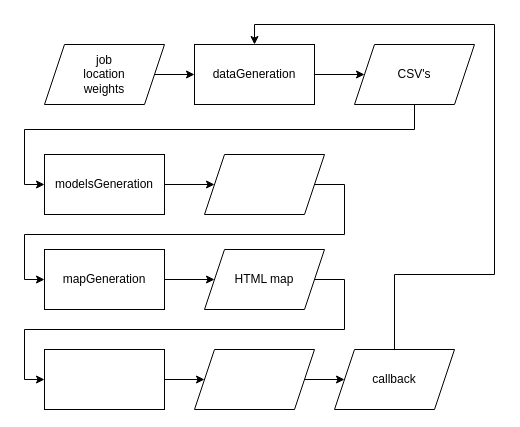
Some shapes in this 520 by 427 pixel diagram are drawn without their labels. The shapes that lost their labels are listed below. From the top down, each one's centre as x and y in pixels, then its label:
At point (264, 184): "models".
At point (104, 379): "appGeneration".
At point (254, 379): "link to web app".
